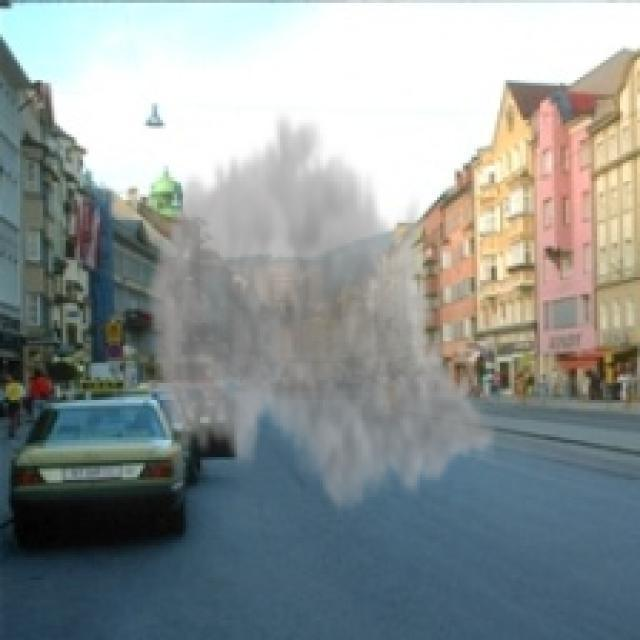Smoke: (143, 103, 500, 523)
